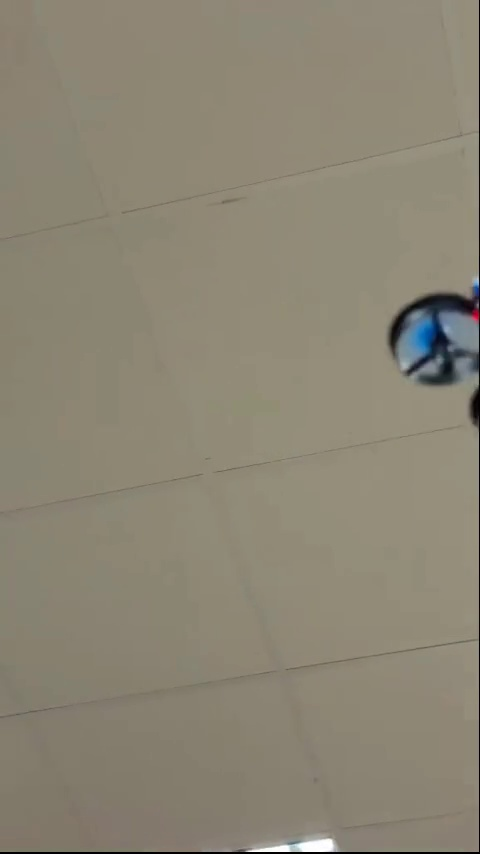drone: (391, 267, 480, 427)
